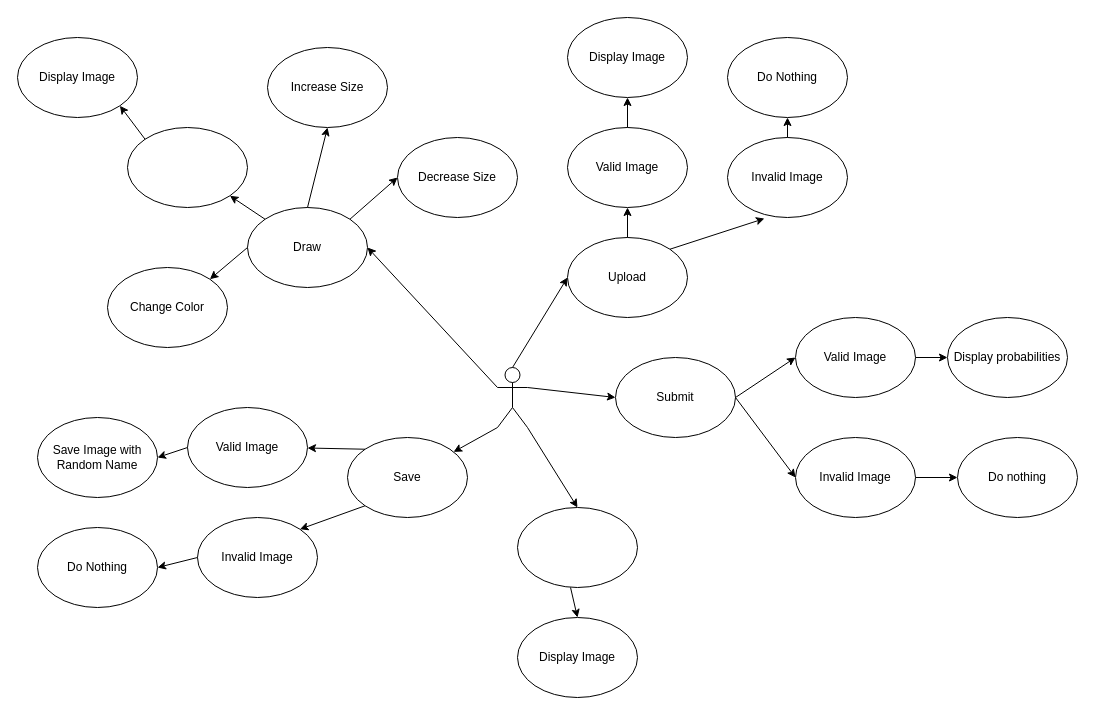
Some shapes in this 1095 by 715 pixel diagram are drawn without their labels. The box of each missing label's shape, as (x1, y1, x2, y2) in pixels:
Finish: (126, 126, 248, 208)
Random Image: (516, 506, 638, 588)
User: (496, 366, 528, 428)
